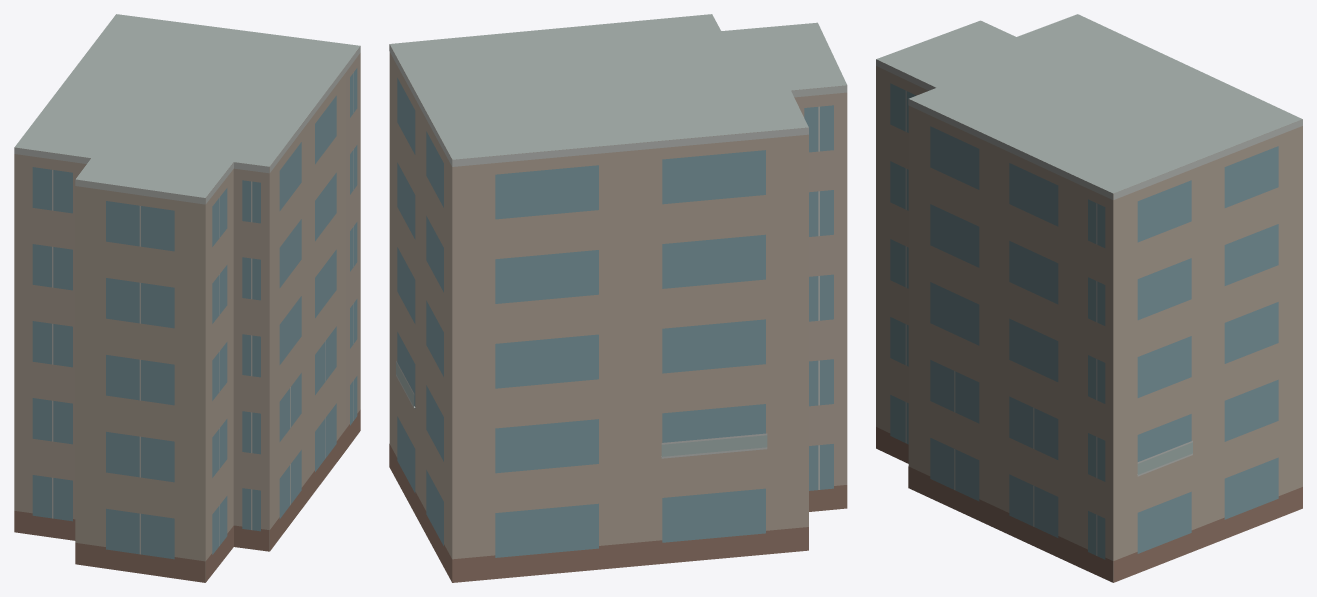
The model's file is survey-upis-32722332.glb.
The picture shows the model from 3 angles, left to right: view 1: azimuth 30°, elevation 25°; view 2: azimuth 150°, elevation 25°; view 3: azimuth 270°, elevation 25°; orthographic projection. The views are drawn at different scales.
Visible parts, largest first — view 1: survey-upis-32722332.tmp; view 2: survey-upis-32722332.tmp; view 3: survey-upis-32722332.tmp.
Boxes of the visible parts, box(x1,y1,x2,y2) form: survey-upis-32722332.tmp: box(14, 14, 360, 582); survey-upis-32722332.tmp: box(389, 14, 847, 582); survey-upis-32722332.tmp: box(876, 14, 1302, 582).
Bounding box in the file's own units: 14.16 × 14.3 × 14.21.
